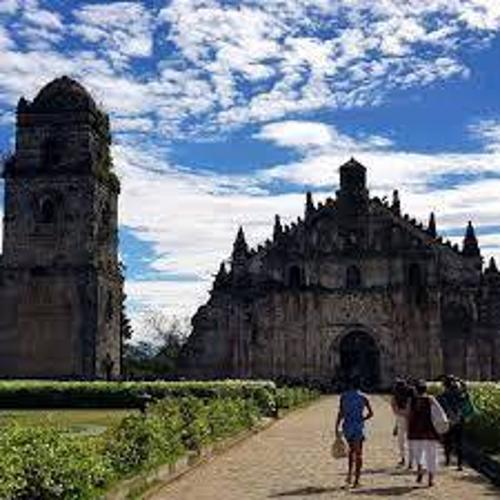Paoay Church: (4, 70, 496, 392)
